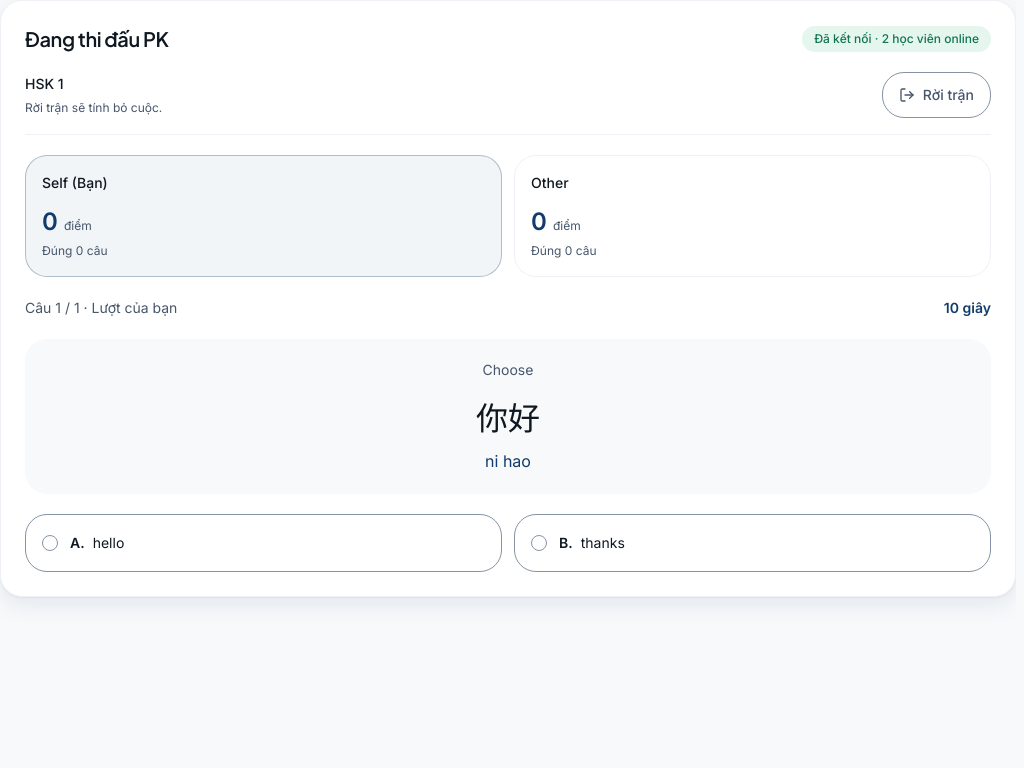
Test: handles ready updates, rejects old revisions and colors a wrong selected answer
Later steps or results of the test are not shown.
Step 1. Click the button named "B. thanks" → coordinates (603, 543), box top-left (514, 514), bottom-right (991, 572)
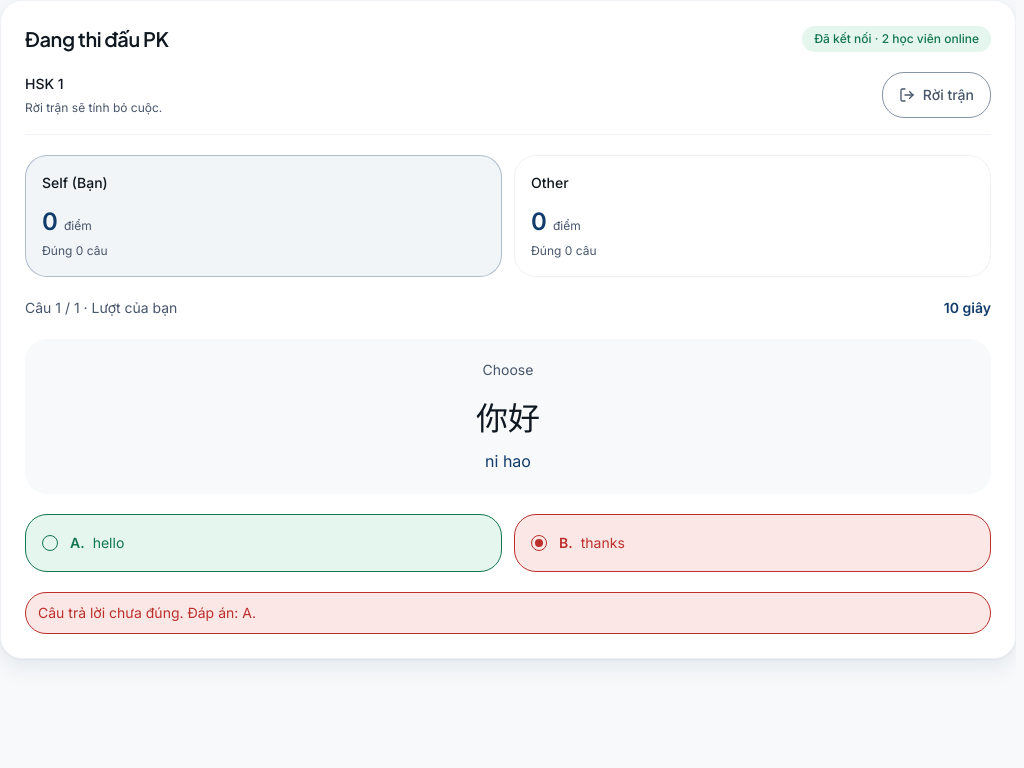
Expected: the message shows "chưa đúng", top-left (38, 604), bottom-right (184, 621)
